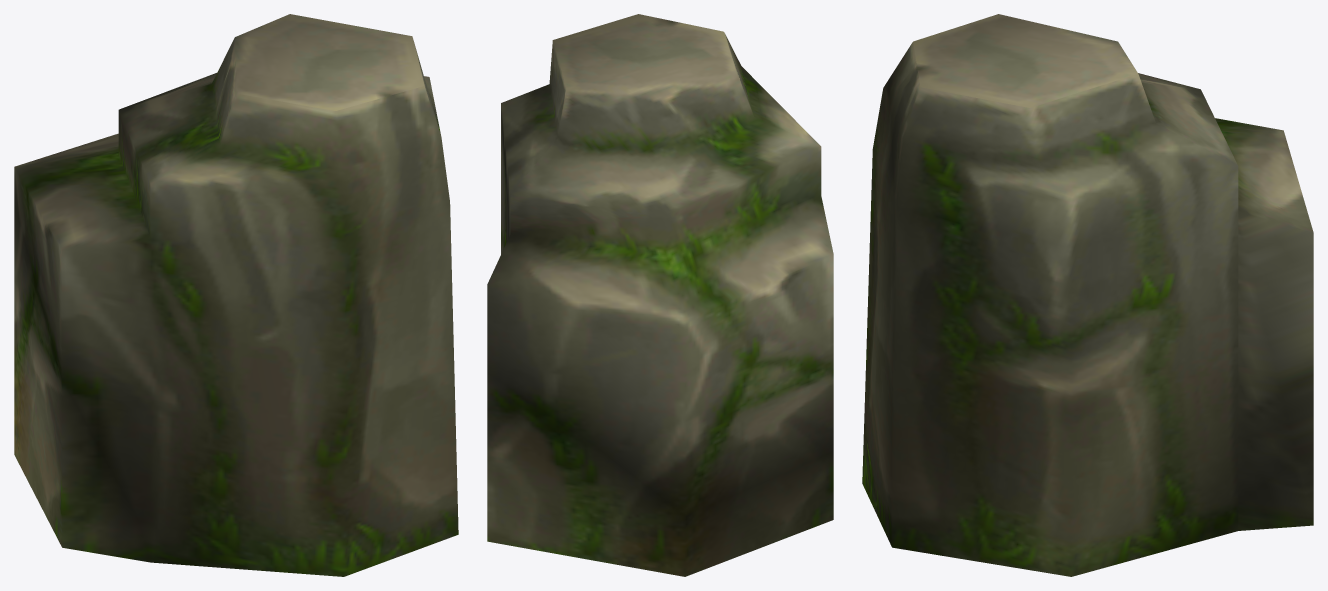
File: RockFormation_4_5.fbx
3 views of the same model, side by side, from view 1: azimuth 30°, elevation 25°; view 2: azimuth 150°, elevation 25°; view 3: azimuth 270°, elevation 25° (orthographic). The views are drawn at different scales.
Parts seen in each view (by area): view 1: RockFormation_4_5; view 2: RockFormation_4_5; view 3: RockFormation_4_5.
Part boxes in pixels (x1,y1,x2,y2): RockFormation_4_5: (14, 14, 458, 576); RockFormation_4_5: (487, 14, 833, 576); RockFormation_4_5: (862, 14, 1313, 576).
Size of the model in its own units: 99.21 by 114 by 103.
